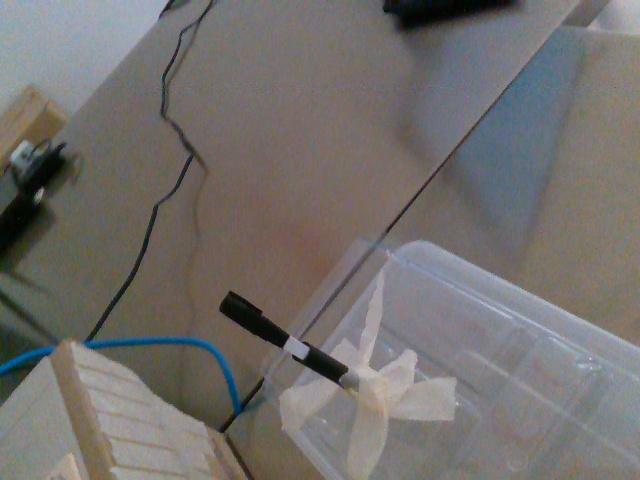test_strip: (216, 290, 309, 361)
